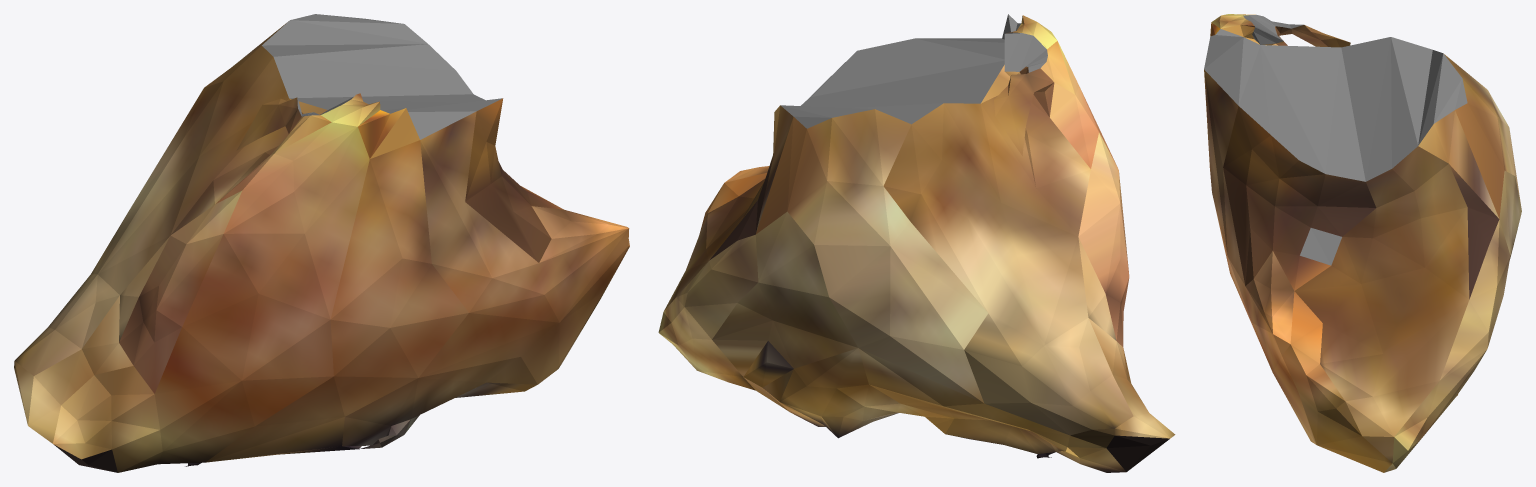
Rendered from coxopodite5_right_collision.obj.
3 views of the same model, side by side, from view 1: azimuth 30°, elevation 25°; view 2: azimuth 150°, elevation 25°; view 3: azimuth 270°, elevation 25° (orthographic). The views are drawn at different scales.
Parts seen in each view (by area): view 1: 5_left_leg_5_left.060; view 2: 5_left_leg_5_left.060; view 3: 5_left_leg_5_left.060.
Part boxes in pixels (x1,y1,x2,y2): 5_left_leg_5_left.060: (14, 14, 629, 472); 5_left_leg_5_left.060: (658, 14, 1175, 472); 5_left_leg_5_left.060: (1204, 14, 1521, 472).
Size of the model in its own units: 0.8323 by 0.5733 by 0.4643.
15 materials, 12 textured.
